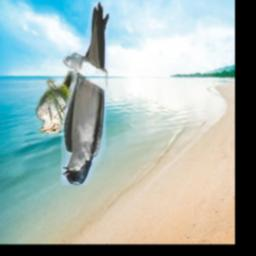Sparrow: (35, 72, 78, 134)
Swallow: (61, 3, 109, 186)
